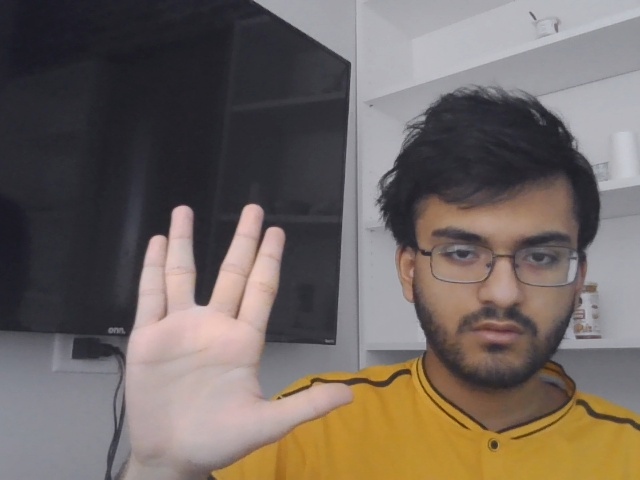LiveLong: (124, 201, 355, 466)
